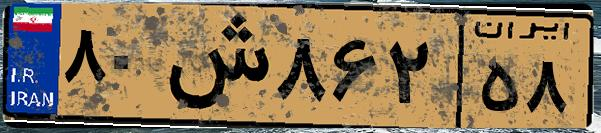0: (110, 28, 158, 98)
2: (385, 28, 445, 110)
5: (475, 38, 525, 113)
6: (330, 28, 385, 110)
8: (270, 28, 330, 110), (57, 26, 110, 100), (525, 38, 570, 115)
ش: (158, 12, 270, 120)
